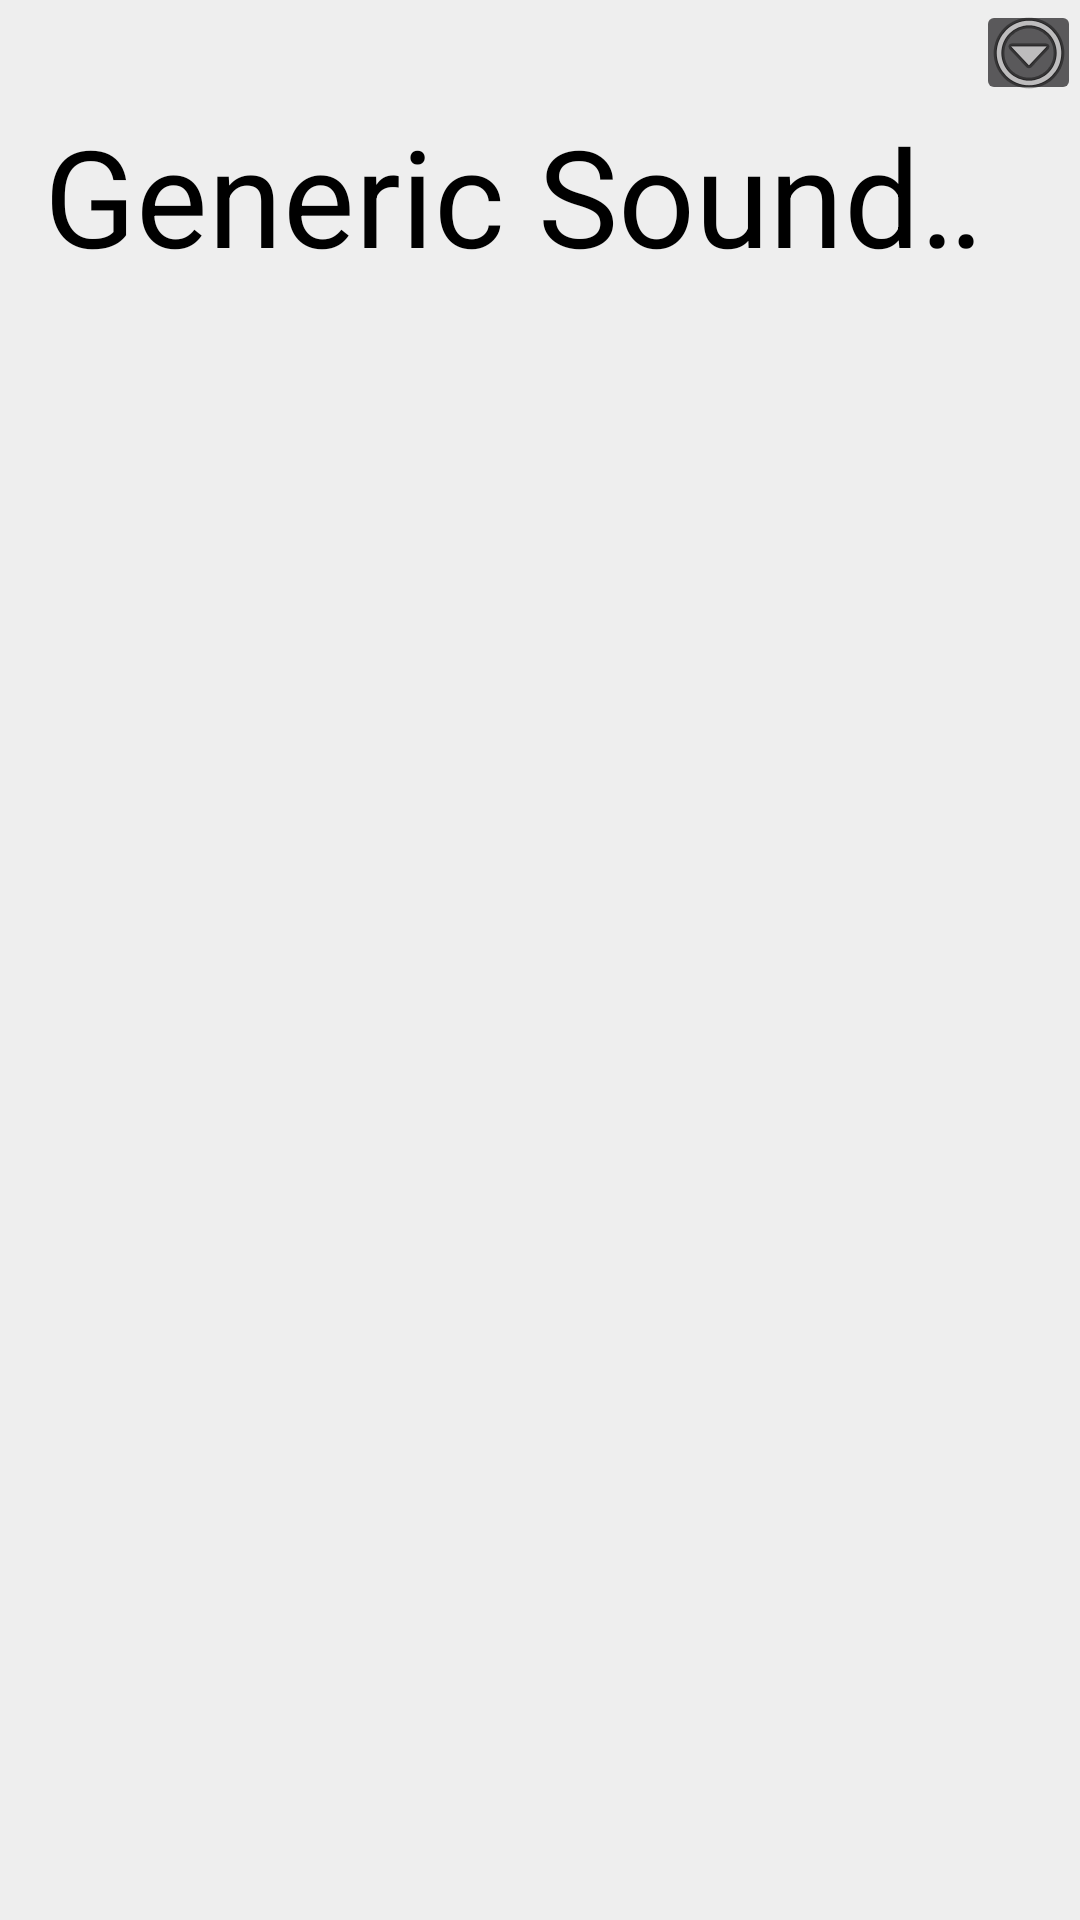

Screen size 1080 × 1920. Icon name, then its center in pixels as (x,y):
more: (1028,53)
